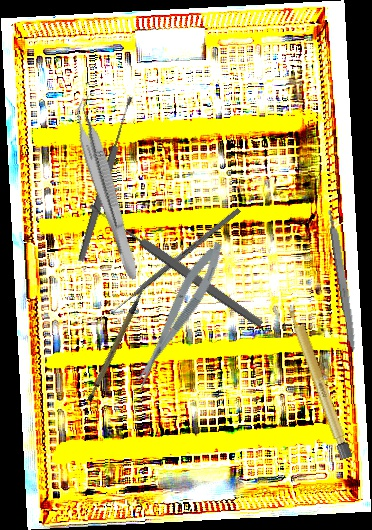Micro Scissor: (123, 237, 232, 393)
Pusher: (105, 207, 241, 319)
Scalpel Handle: (285, 302, 354, 461), (72, 288, 162, 404), (326, 209, 360, 353)
Surgical Spoon: (87, 200, 265, 330), (75, 94, 137, 264)
Tissue Forceps: (64, 95, 151, 282)
